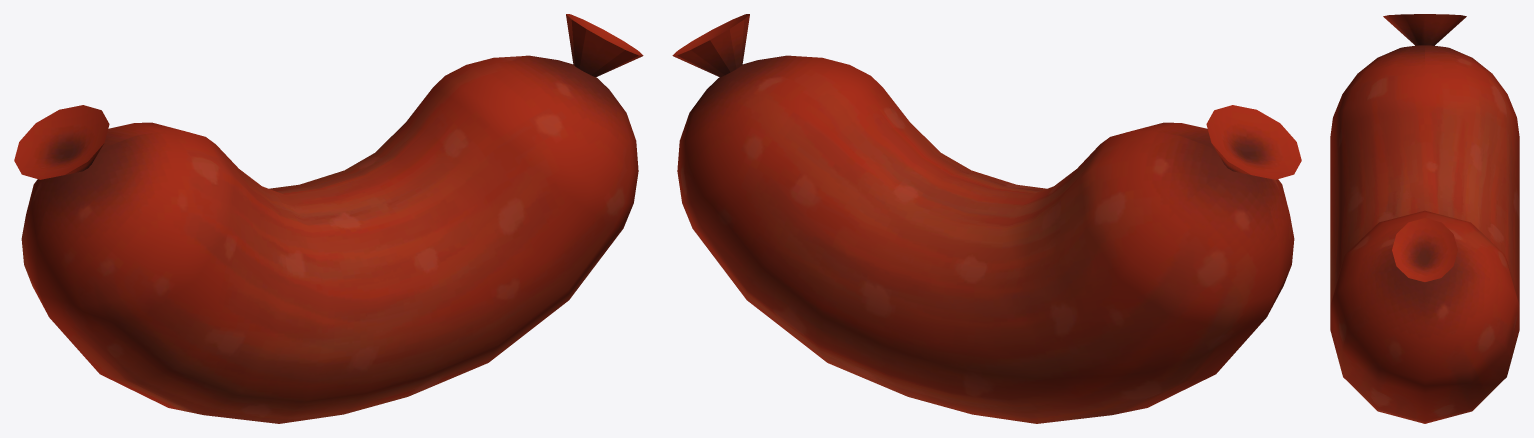
File: Pizza_Pepperoni_Raw.fbx
3 views of the same model, side by side, from view 1: azimuth 30°, elevation 25°; view 2: azimuth 150°, elevation 25°; view 3: azimuth 270°, elevation 25° (orthographic). The views are drawn at different scales.
Parts seen in each view (by area): view 1: Pizza_Pepperoni_Raw; view 2: Pizza_Pepperoni_Raw; view 3: Pizza_Pepperoni_Raw.
Boxes of the visible parts, x1,y1,x2,y2 form: Pizza_Pepperoni_Raw: (14, 14, 643, 423); Pizza_Pepperoni_Raw: (672, 14, 1301, 423); Pizza_Pepperoni_Raw: (1330, 14, 1519, 423).
Bounding box in the file's own units: 1.08 × 0.5831 × 0.3557.
1 material, 1 textured.
